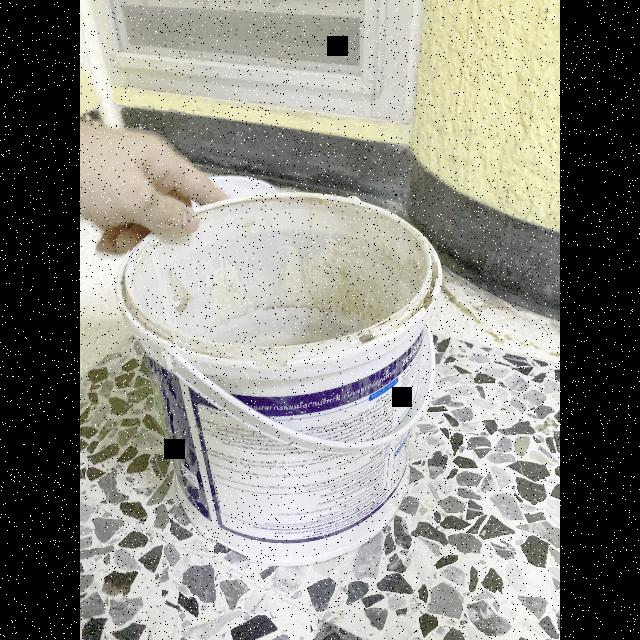paint_bucket: (116, 189, 442, 559)
